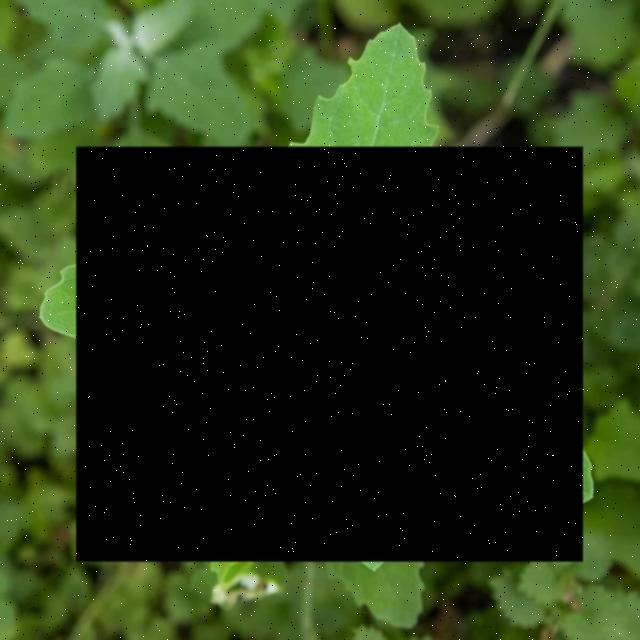Bethu_ko_Saag: (76, 147, 583, 562)
